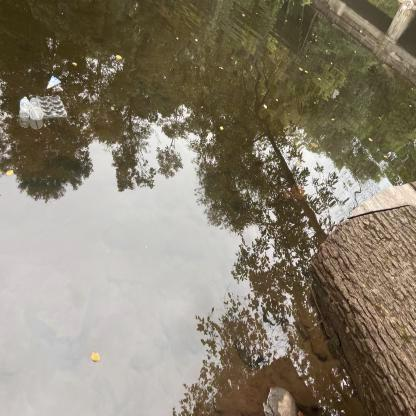Plastic: (34, 94, 68, 119), (19, 96, 44, 128), (46, 74, 64, 93)
